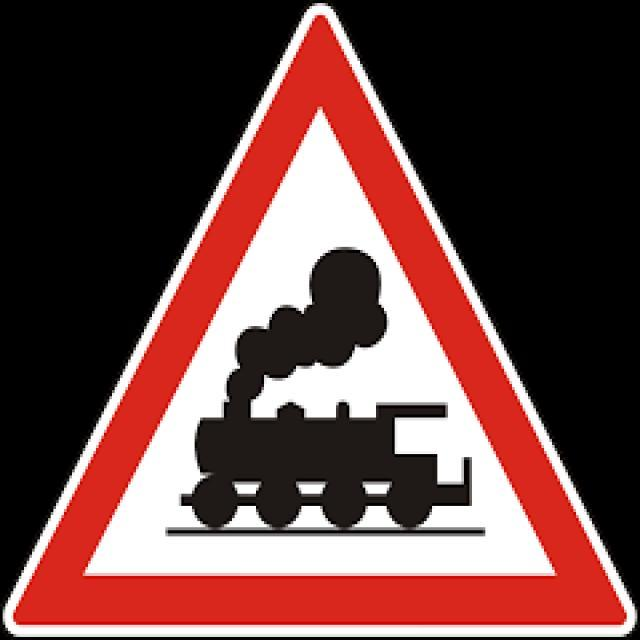unguarded level crossing: (25, 23, 618, 616)
